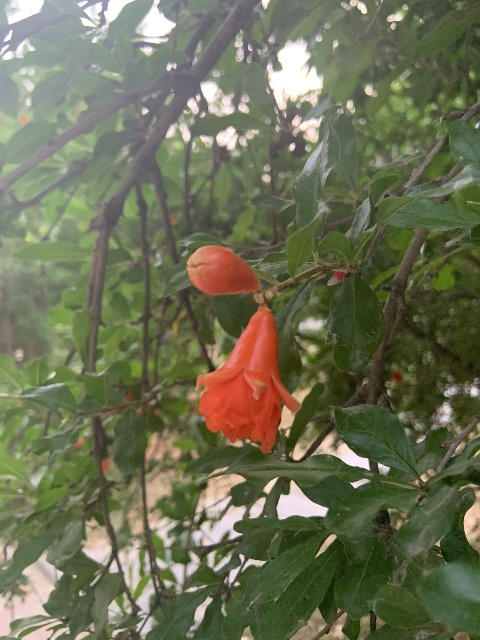bud: (186, 244, 260, 296)
flower: (196, 305, 299, 453)
